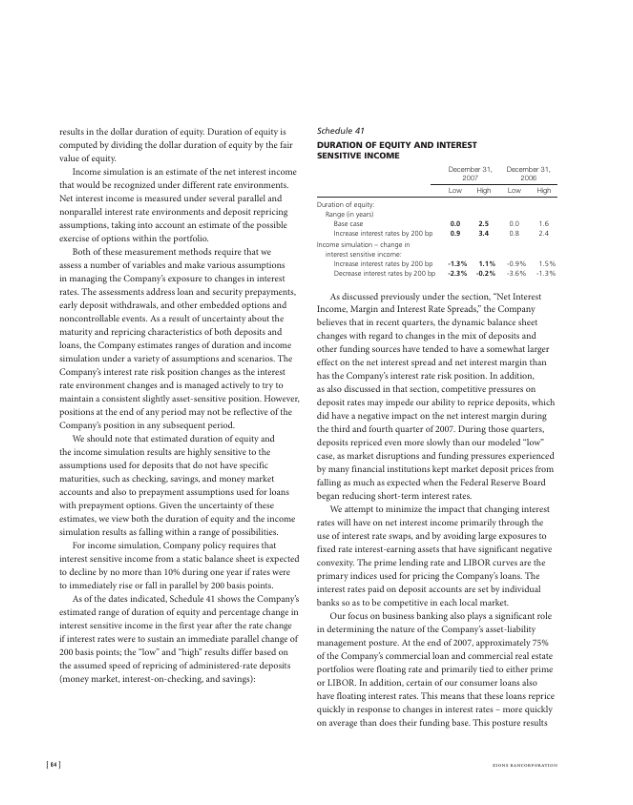table: (316, 165, 559, 286)
